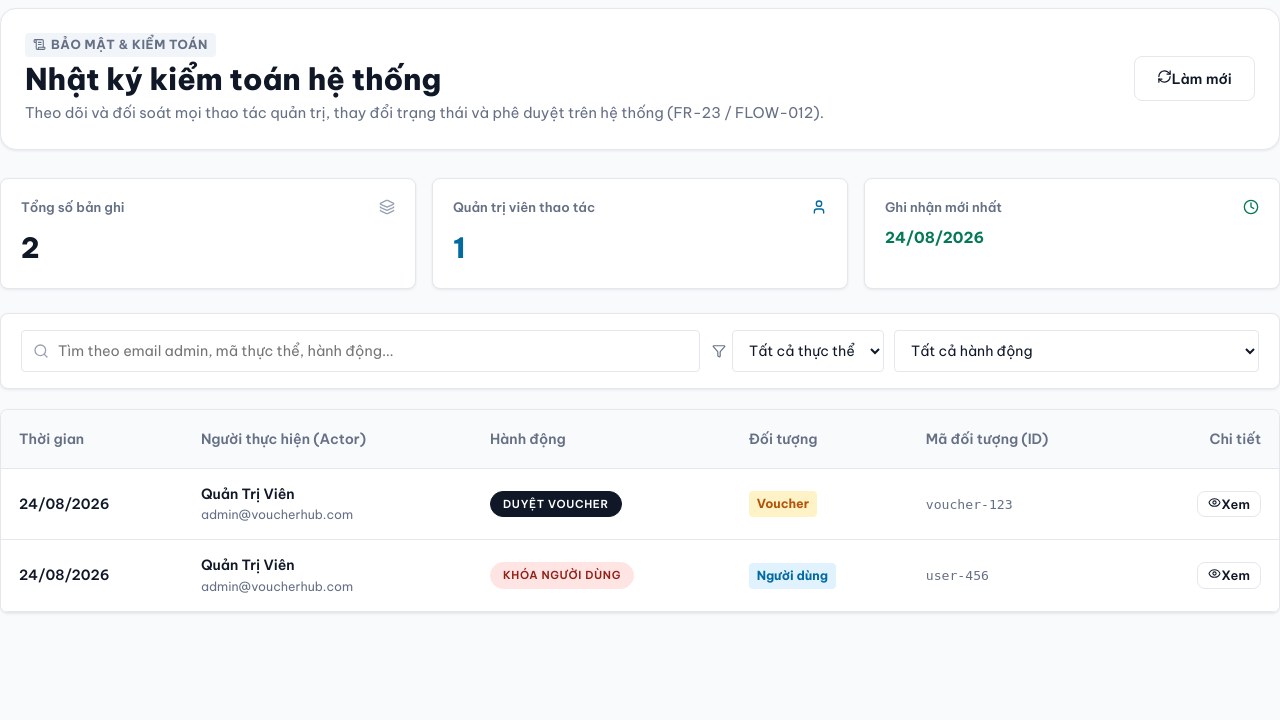
Test case: AuditLogsPage › opens metadata inspector modal on clicking view button
This screenshot has width=1280, height=720.
expect the text "Duyệt voucher" is shown: met, box [490,491,622,517]
Step 1. Click the button "Xem" in the row of "Duyệt voucher" → x=1229, y=504, box [1197,491,1261,517]
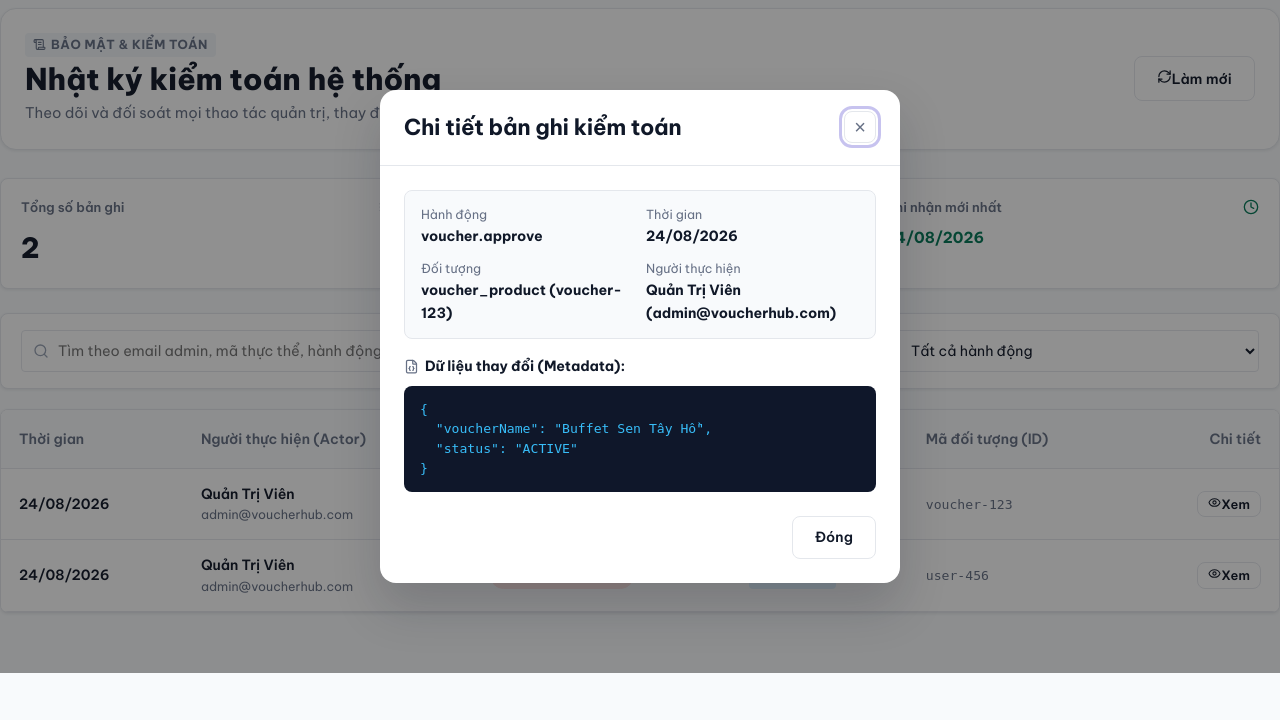
expect the heading "Chi tiết bản ghi kiểm toán" is shown: met, box [404,110,682,145]
expect the text "{ \"voucherName\": \"Buffet Sen Tây Hồ\", \"status\": \"ACTIVE\" }" is shown: met, box [404,386,876,492]
